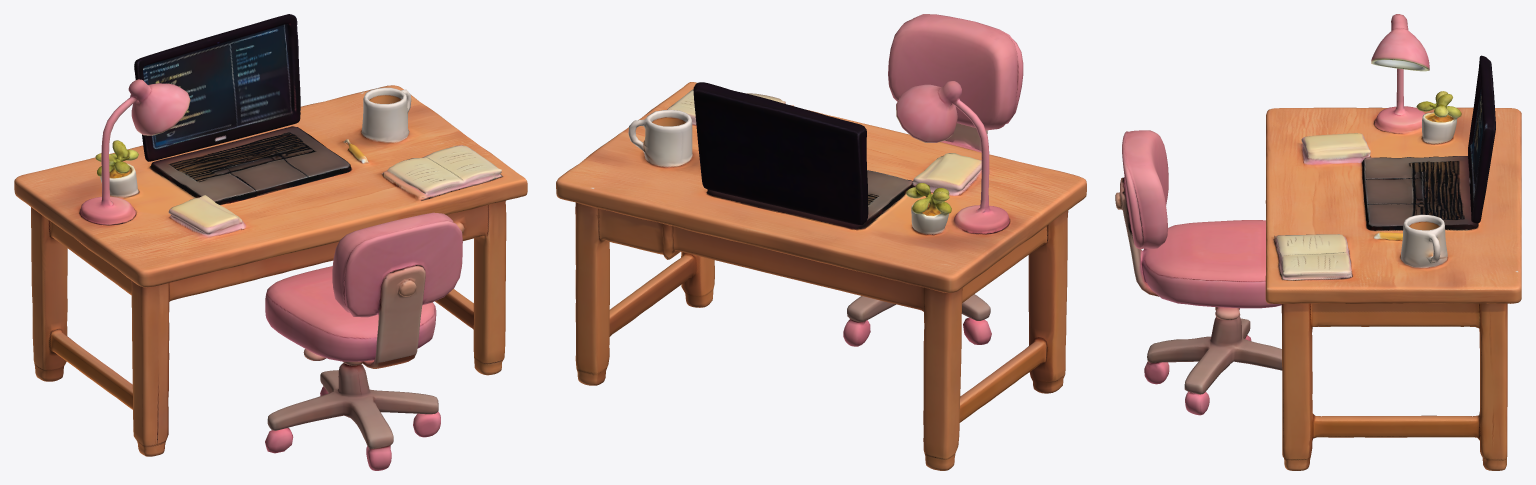
Rendered from desk.glb.
3 views of the same model, side by side, from view 1: azimuth 30°, elevation 25°; view 2: azimuth 150°, elevation 25°; view 3: azimuth 270°, elevation 25° (orthographic). The views are drawn at different scales.
Parts seen in each view (by area): view 1: model; view 2: model; view 3: model.
Boxes of the visible parts, <box> form: model: <box>14,14,527,470</box>; model: <box>556,14,1086,470</box>; model: <box>1115,14,1521,470</box>.
Size of the model in its own units: 1.89 by 1.53 by 1.79.
Materials: 1 (1 with a texture image).
